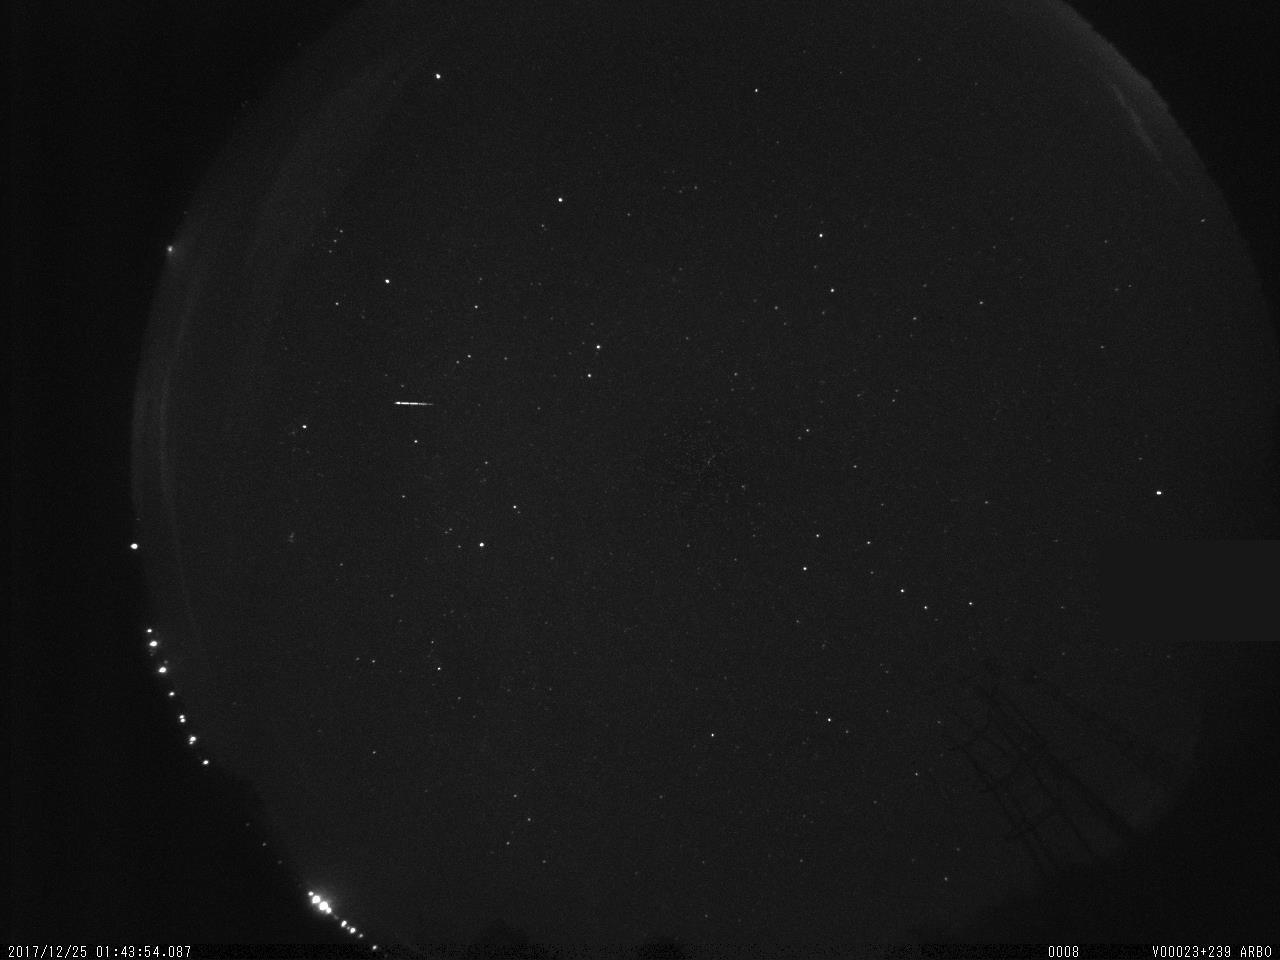meteor: (385, 391, 444, 415)
